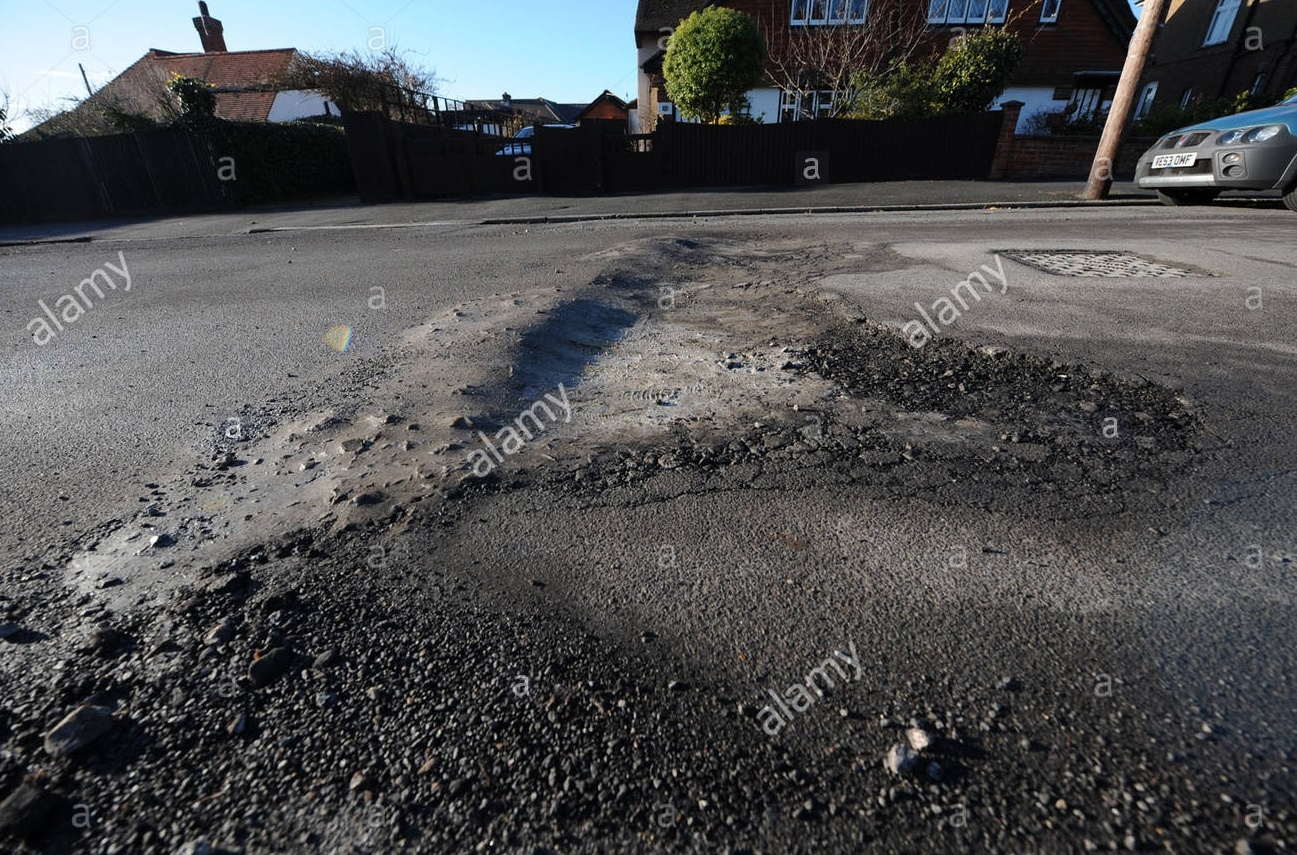pothole: (582, 228, 1231, 548)
